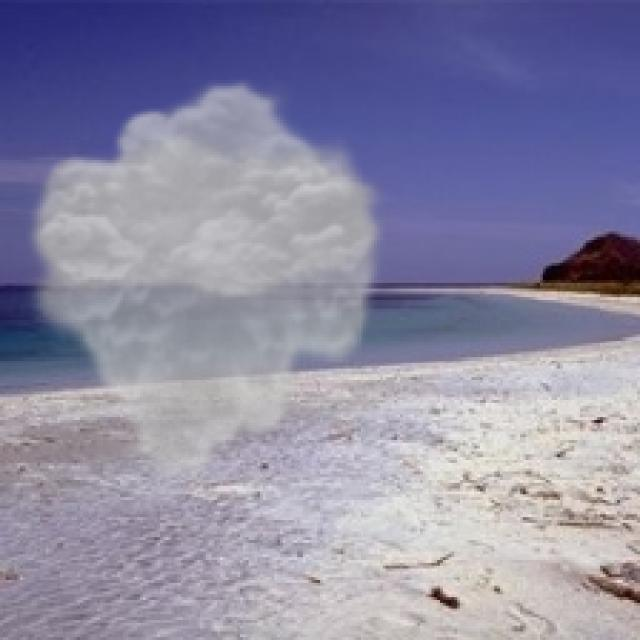Smoke: (19, 77, 392, 489)
